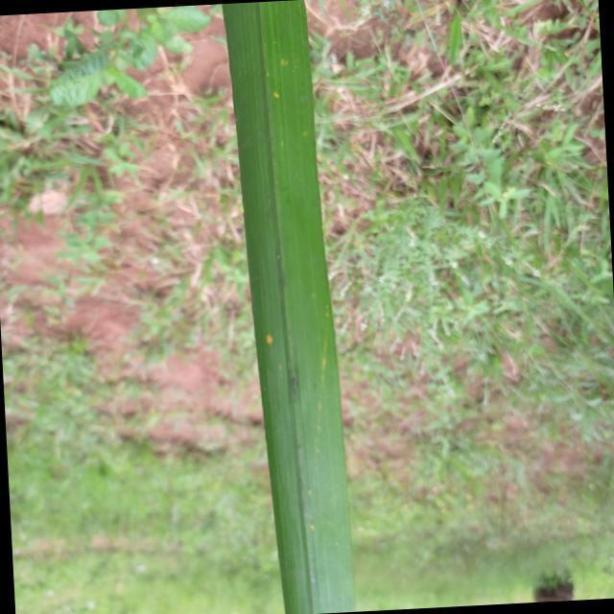Kalium: (222, 1, 358, 614)
